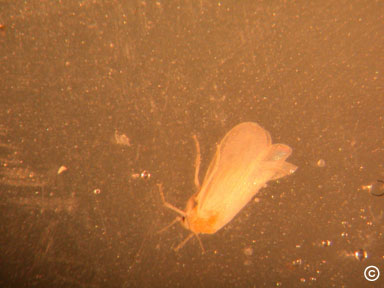whitefly: (153, 119, 298, 251)
